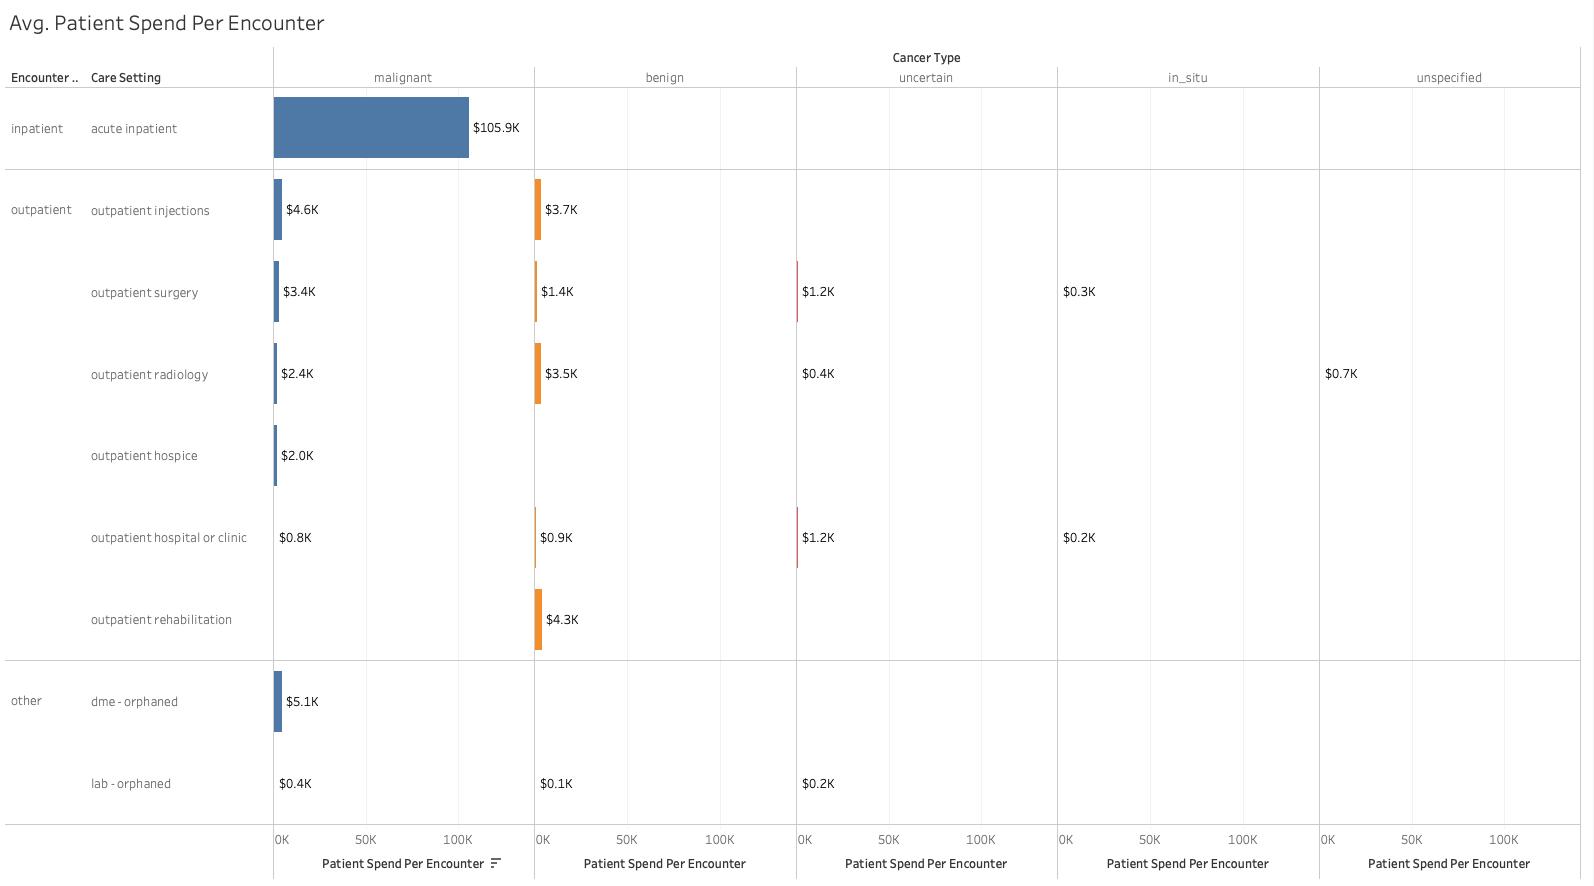

What the dashboard file says about the page in this screenshot:
{"tool":"tableau","page":{"name":"Dashboard 1","canvas":[1600,900],"ordinal":0},"visuals":[{"type":"worksheet","title":"Sheet 6 (3)","mark":"Automatic","rows":["encounter_group","care_setting"],"cols":["cancer_type","Calculation_3183190753738753"],"box":[8,8,1584,884]}]}

Visuals, with their boxes in screenshot pixels (x1, y1, x2, y2), scaled from the page's 1600x900 canvas onto the 1594x886 screenshot:
"Sheet 6 (3)" worksheet: select_region(8, 8, 1586, 878)
